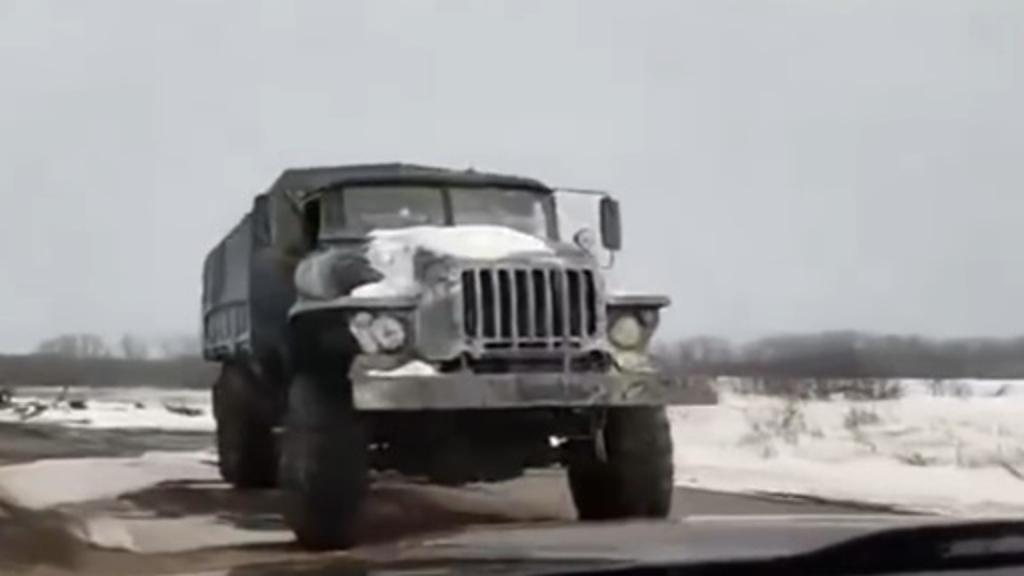TRUCK: (188, 154, 686, 542)
